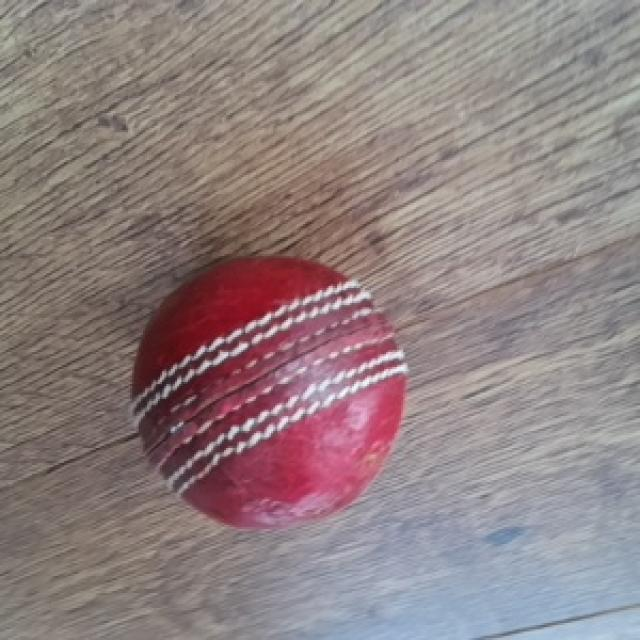ball: (128, 252, 416, 530)
